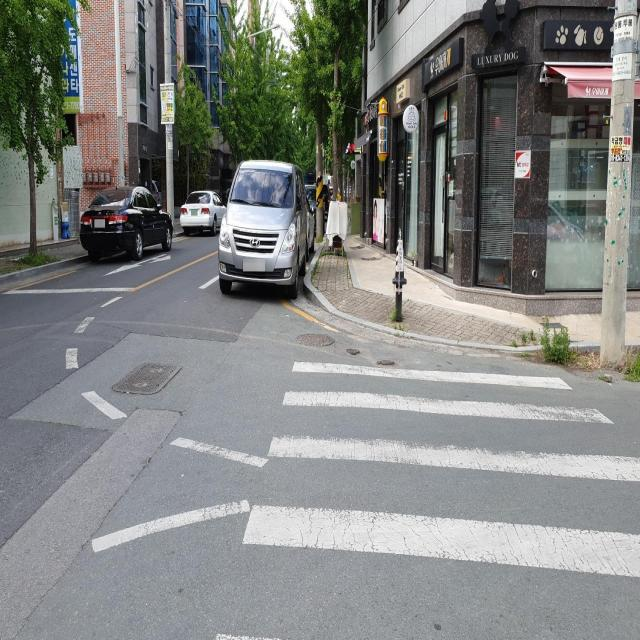횡단보도: (240, 355, 640, 584)
